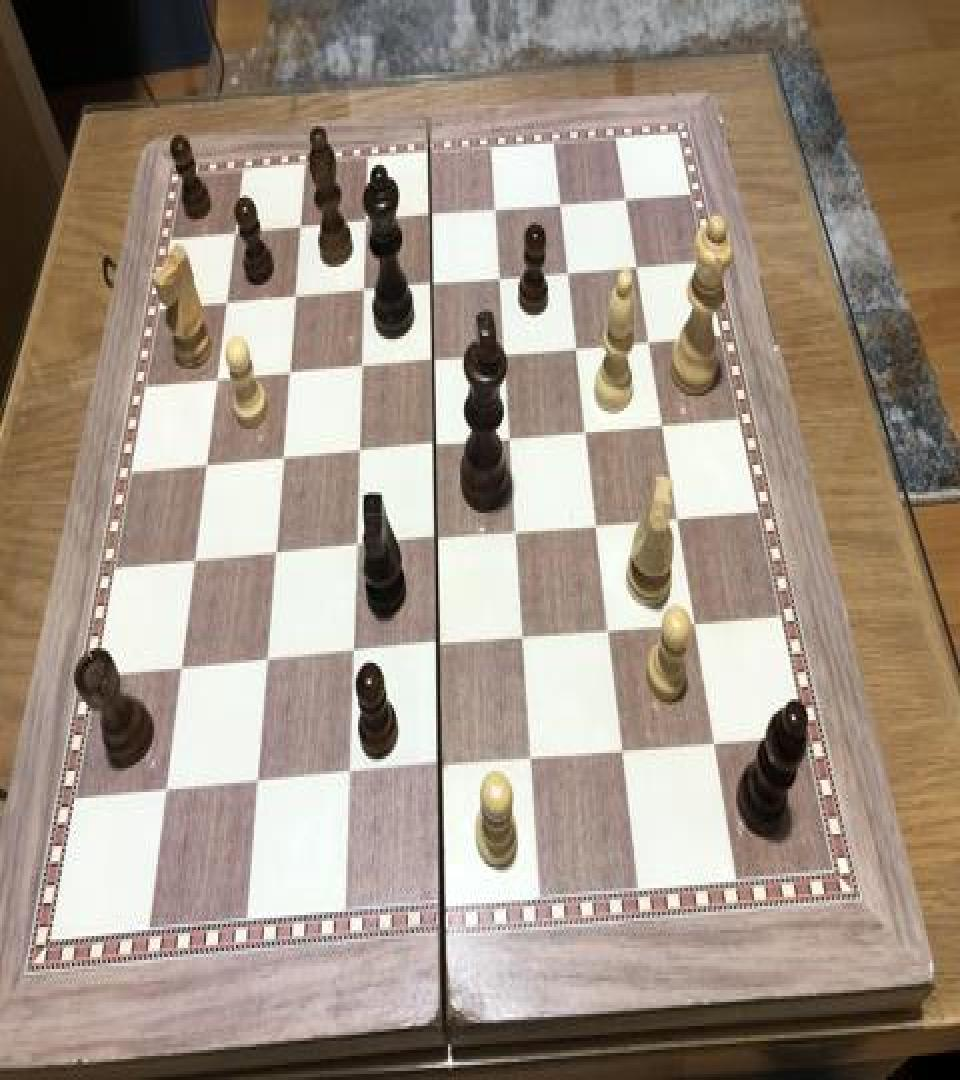xcorner: (705, 727, 729, 764), (522, 742, 546, 779), (613, 184, 637, 220), (548, 189, 572, 225), (483, 194, 507, 230), (418, 200, 442, 236), (353, 204, 377, 240), (288, 210, 312, 246), (625, 252, 649, 288), (556, 256, 580, 292), (488, 262, 512, 298), (420, 268, 444, 304), (351, 273, 375, 309), (283, 279, 307, 315), (214, 284, 238, 320), (637, 327, 661, 363), (565, 332, 589, 368), (493, 338, 517, 374), (349, 350, 373, 386), (277, 356, 301, 392), (651, 410, 675, 446), (575, 416, 599, 452), (499, 422, 523, 458), (423, 428, 447, 464), (347, 434, 371, 470), (271, 440, 295, 476), (194, 447, 218, 483), (667, 502, 691, 538), (587, 508, 611, 544), (506, 516, 530, 552), (425, 522, 449, 558), (345, 530, 369, 566), (264, 536, 288, 572), (183, 542, 207, 578), (685, 608, 709, 644), (599, 615, 623, 651), (514, 621, 538, 657), (428, 628, 452, 664), (342, 636, 366, 672), (256, 644, 280, 680), (169, 650, 193, 686), (614, 735, 638, 771), (430, 750, 454, 786), (339, 758, 363, 794), (247, 765, 271, 801), (154, 772, 178, 808), (222, 215, 246, 250), (421, 344, 445, 379), (205, 362, 229, 397)
